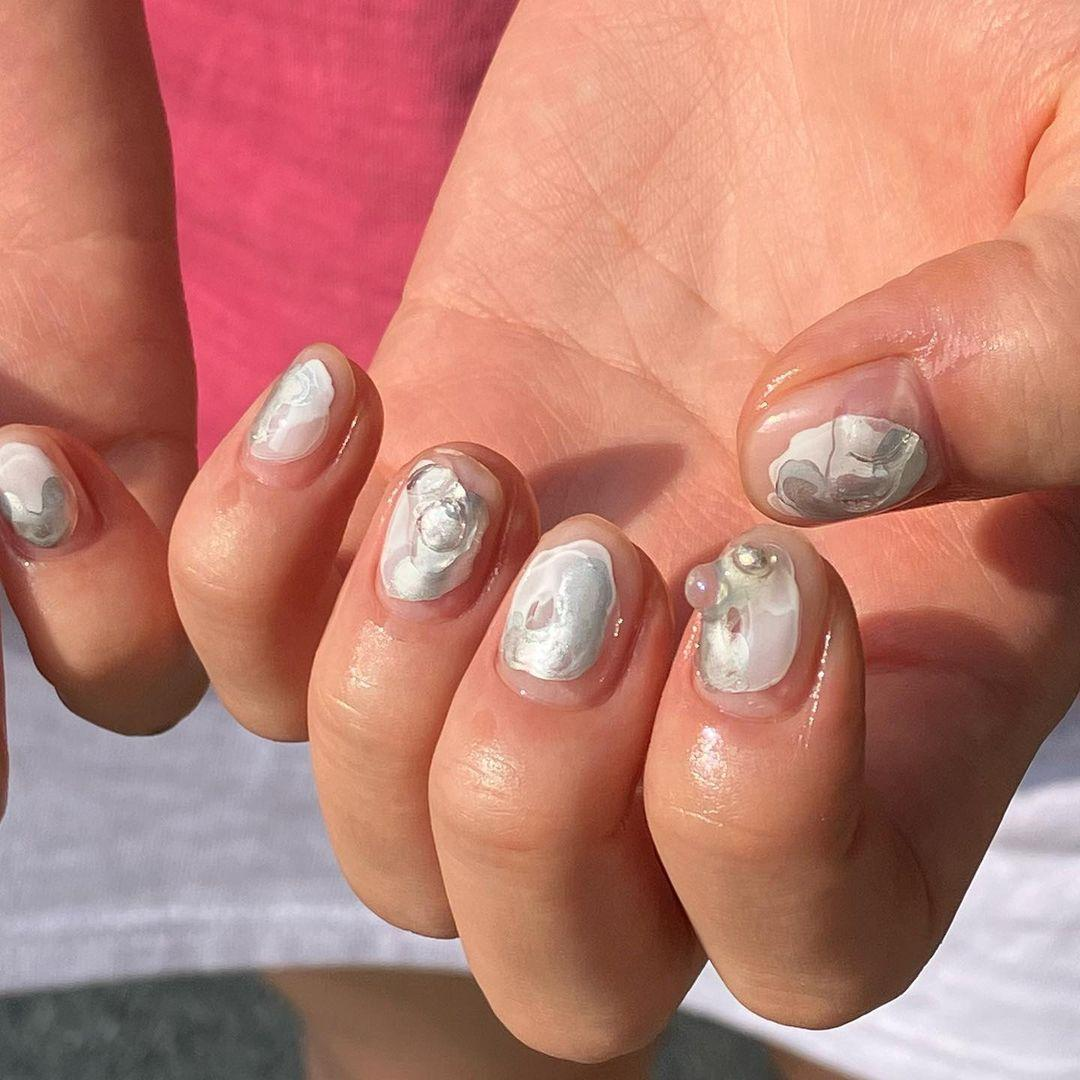nail: (743, 358, 944, 526), (495, 536, 623, 701), (376, 453, 499, 606), (683, 538, 802, 695), (238, 341, 356, 485), (0, 439, 79, 550)
